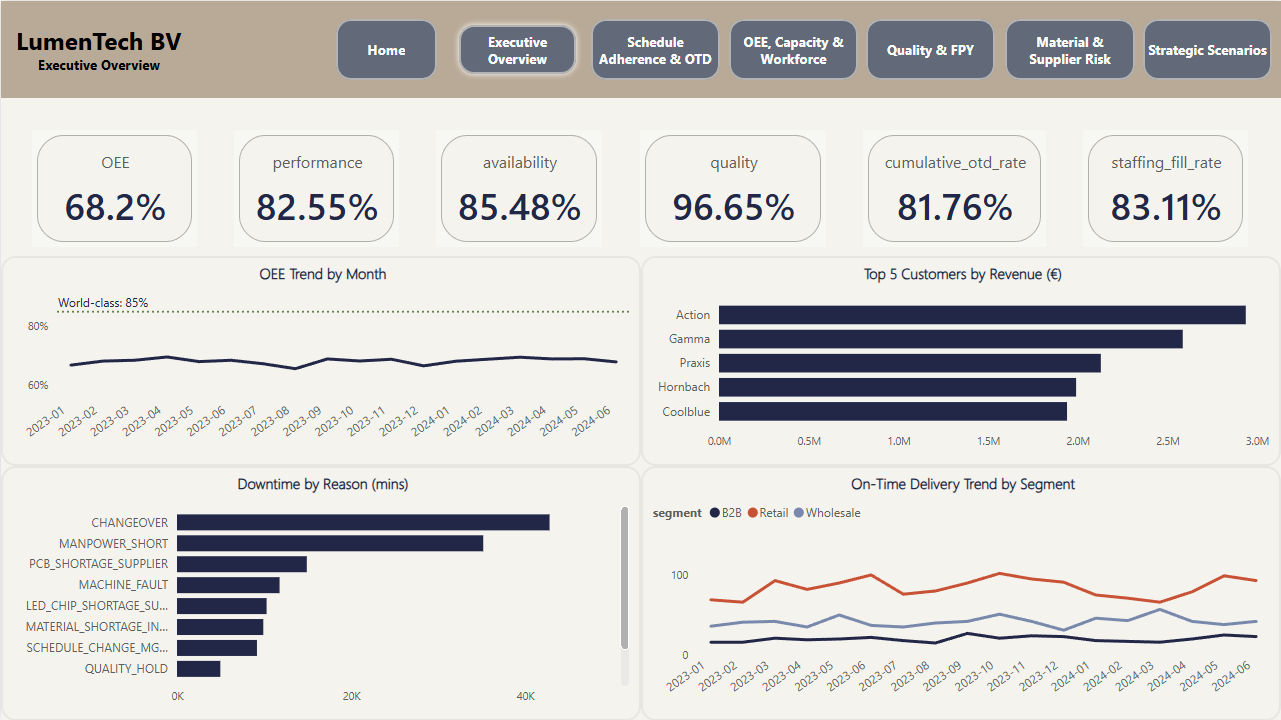

This screenshot's page, from the dashboard's own definition file:
{"tool":"powerbi","page":{"name":"Executive Overview","canvas":[1280,720],"ordinal":1},"visuals":[{"type":"shape","box":[0,0,1280,97],"z":0},{"type":"cardVisual","fields":{"Data":["Avg(mart_executive_overview.oee)"]},"box":[30.7,129.1,165.1,116.8],"z":1000},{"type":"cardVisual","fields":{"Data":["Avg(mart_executive_overview.performance)"]},"box":[233,129.1,165.1,116.8],"z":2000},{"type":"cardVisual","fields":{"Data":["Avg(mart_executive_overview.availability)"]},"box":[435.3,129.1,166,116.8],"z":3000},{"type":"cardVisual","fields":{"Data":["Avg(mart_executive_overview.quality)"]},"box":[638.5,129.1,186.1,116.8],"z":4000},{"type":"cardVisual","fields":{"Data":["Avg(mart_executive_overview.cumulative_otd_rate)"]},"box":[861.9,129.1,182.6,116.8],"z":5000},{"type":"cardVisual","fields":{"Data":["Avg(mart_executive_overview.staffing_fill_rate)"]},"box":[1081.8,129.1,165.1,116.8],"z":6000},{"type":"lineChart","title":"OEE Trend by Month","fields":{"Category":["mart_executive_overview.year_month"],"Y":["Avg(mart_executive_overview.oee)"]},"box":[0,255,640,210],"z":7000},{"type":"barChart","title":"Downtime by Reason (mins)","fields":{"Category":["mart_executive_overview.downtime_reason"],"Y":["Sum(mart_executive_overview.downtime_mins)"]},"box":[0,465,640,255],"z":8000},{"type":"barChart","title":"Top 5 Customers by Revenue (€)","fields":{"Category":["mart_schedule_adherence.customer_name"],"Y":["Sum(mart_schedule_adherence.order_value_eur)"]},"box":[640,255,640,210],"z":9000},{"type":"lineChart","title":"On-Time Delivery Trend by Segment","fields":{"Category":["mart_schedule_adherence.year_month"],"Y":["CountNonNull(mart_schedule_adherence.is_on_time)"],"Series":["mart_schedule_adherence.segment"]},"box":[640,465,640,255],"z":10000},{"type":"textbox","box":[67,17,218,63],"z":11000},{"type":"actionButton","title":"Home","box":[335.4,18.4,100.1,60.6],"z":12000},{"type":"actionButton","title":"Home","box":[452.2,18.4,129.1,60.6],"z":13000},{"type":"actionButton","title":"Home","box":[590,18.4,129.1,60.6],"z":14000},{"type":"actionButton","title":"Home","box":[727.9,18.4,129.1,60.6],"z":15000},{"type":"actionButton","title":"Home","box":[864.9,18.4,129.1,60.6],"z":16000},{"type":"actionButton","title":"Home","box":[1004.5,18.4,129.1,60.6],"z":17000},{"type":"actionButton","title":"Home","box":[1142.3,18.4,129.1,60.6],"z":18000},{"type":"image","box":[0,9,71,79],"z":18001}]}

Visuals, with their boxes in screenshot pixels (x1, y1, x2, y2), scaled from the page's 1280x720 canvas onto the 1281x720 screenshot:
shape: <region>0, 0, 1280, 97</region>
cardVisual - Avg(mart_executive_overview.oee): <region>31, 129, 196, 246</region>
cardVisual - Avg(mart_executive_overview.performance): <region>233, 129, 398, 246</region>
cardVisual - Avg(mart_executive_overview.availability): <region>436, 129, 602, 246</region>
cardVisual - Avg(mart_executive_overview.quality): <region>639, 129, 825, 246</region>
cardVisual - Avg(mart_executive_overview.cumulative_otd_rate): <region>863, 129, 1045, 246</region>
cardVisual - Avg(mart_executive_overview.staffing_fill_rate): <region>1083, 129, 1248, 246</region>
"OEE Trend by Month" lineChart: <region>0, 255, 640, 465</region>
"Downtime by Reason (mins)" barChart: <region>0, 465, 640, 719</region>
"Top 5 Customers by Revenue (€)" barChart: <region>640, 255, 1280, 465</region>
"On-Time Delivery Trend by Segment" lineChart: <region>640, 465, 1280, 719</region>
textbox: <region>67, 17, 285, 80</region>
"Home" actionButton: <region>336, 18, 436, 79</region>
"Home" actionButton: <region>453, 18, 582, 79</region>
"Home" actionButton: <region>590, 18, 720, 79</region>
"Home" actionButton: <region>728, 18, 858, 79</region>
"Home" actionButton: <region>866, 18, 995, 79</region>
"Home" actionButton: <region>1005, 18, 1134, 79</region>
"Home" actionButton: <region>1143, 18, 1272, 79</region>
image: <region>0, 9, 71, 88</region>
